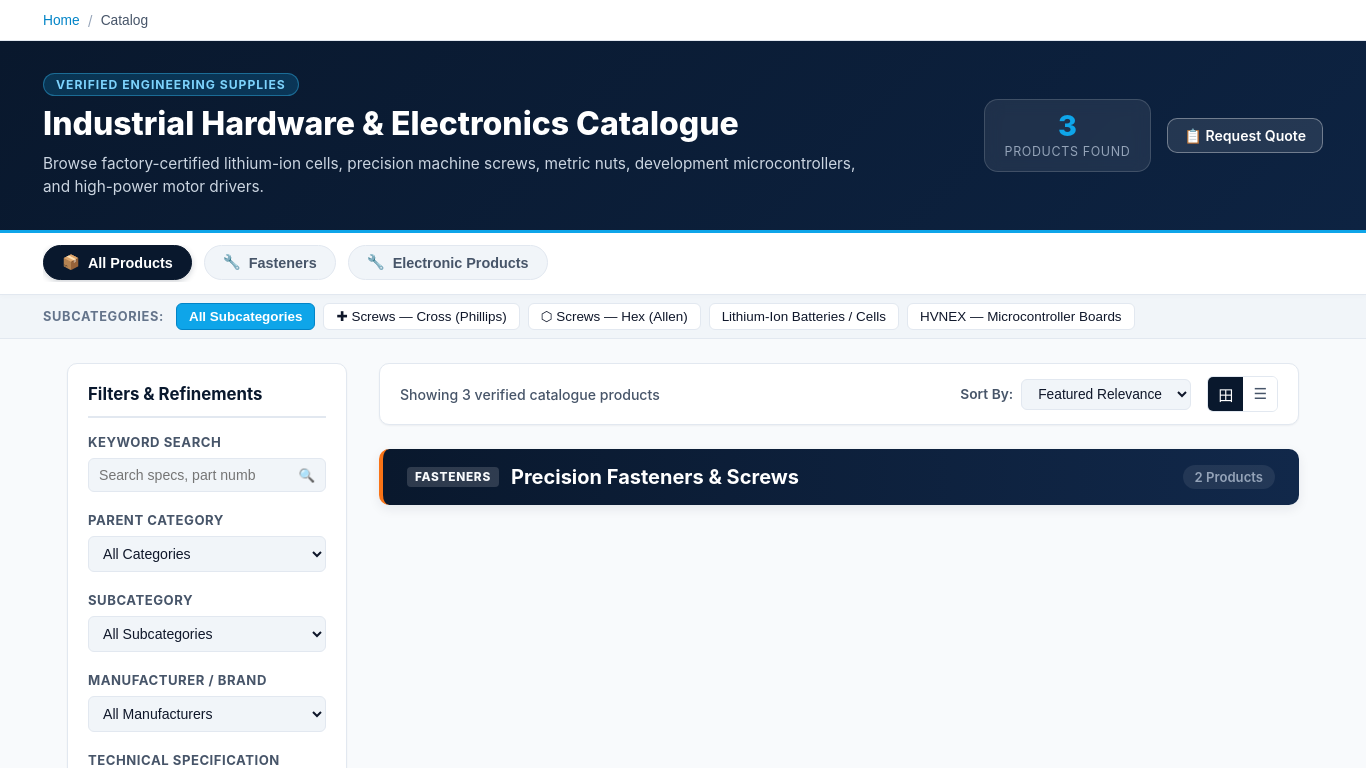
Test: VERTEX ProductListPage Component Suite › 2. Filters catalogue by parent category
The width and height of the screenshot is (1366, 768).
Click the button "🔧 Fasteners" at (270, 263), box [204,245,336,280]
(page scrolled)
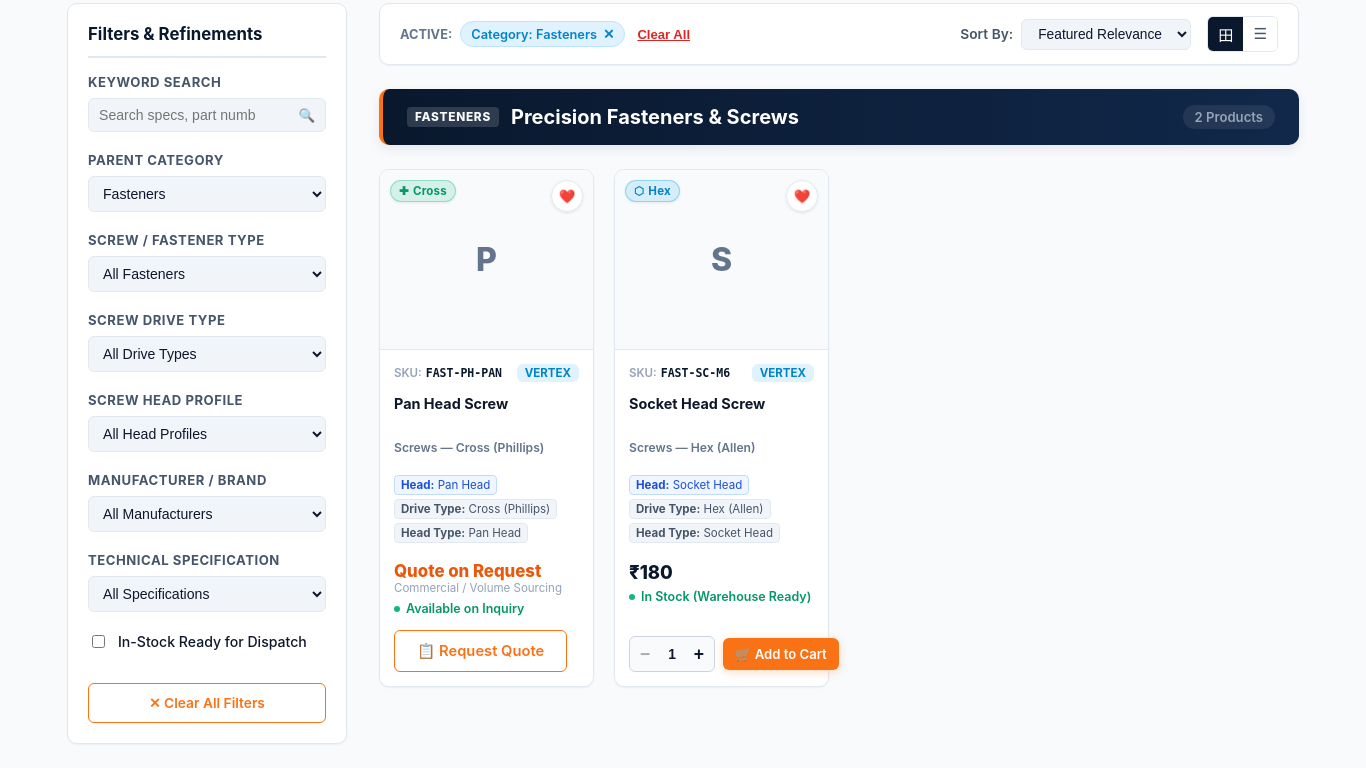
Expected: the heading "Pan Head Screw" is shown, [394,395,508,412]
Expected: the heading "Socket Head Screw" is shown, [629,395,765,412]
